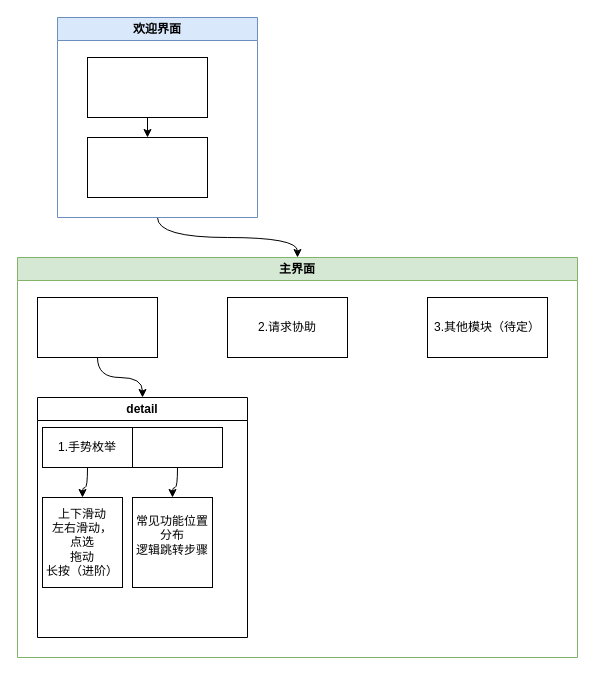
This 595x675 diagram has some shape labels left out. The shapes that lost their labels are listed below. From the top down, each one's centre as x and y in pixels, then its label:
point 147,87: 动画片引入软件
point 147,167: 简单ui交互引导
point 97,327: 1.学习手势
point 177,447: 2.逻辑跳转
